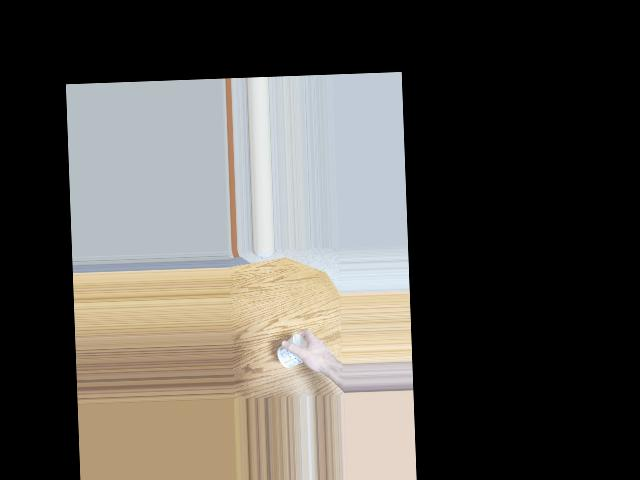cotage: (275, 331, 307, 371)
